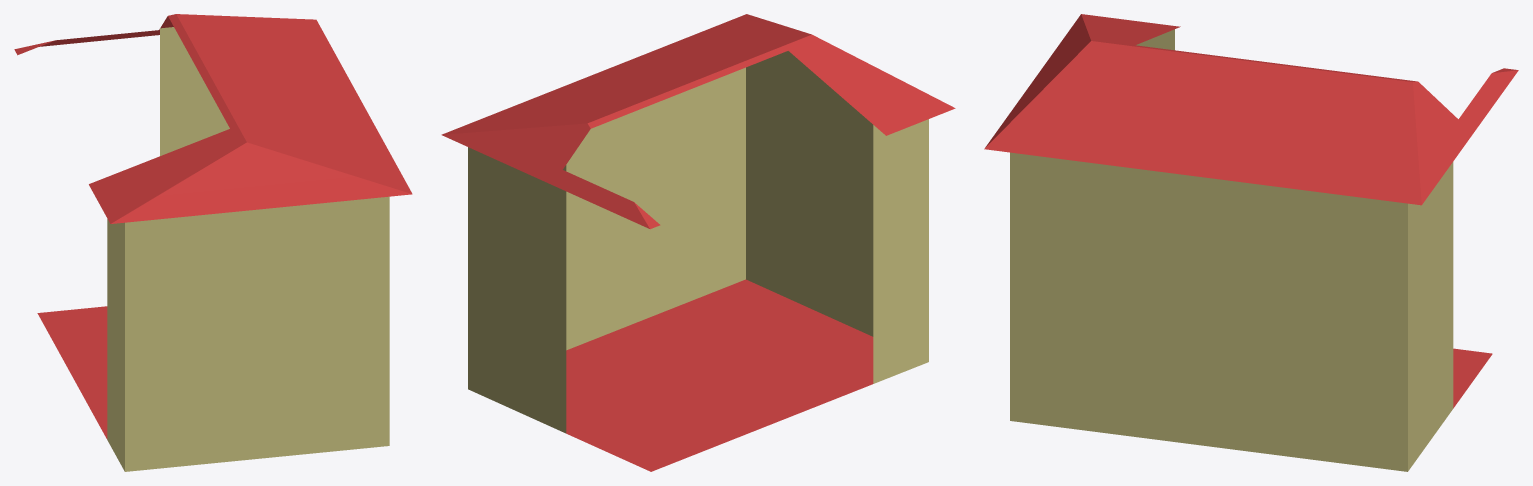
The picture shows the model from 3 angles, left to right: view 1: azimuth 30°, elevation 25°; view 2: azimuth 150°, elevation 25°; view 3: azimuth 270°, elevation 25°; orthographic projection. The views are drawn at different scales.
Parts seen in each view (by area): view 1: group_5, group_3, group_6; view 2: group_5, group_6, group_3, group_4; view 3: group_5, group_3, group_6.
Boxes of the visible parts, box(x1,y1,x2,y2) form: group_5: box(107, 27, 389, 471); group_3: box(14, 14, 412, 223); group_6: box(37, 306, 107, 439); group_5: box(468, 51, 928, 433); group_6: box(566, 279, 873, 471); group_3: box(441, 14, 955, 229); group_4: box(499, 103, 950, 228); group_5: box(1010, 29, 1453, 471); group_3: box(984, 14, 1518, 205); group_6: box(1453, 348, 1492, 408).
Bounding box in the file's own units: 10.89 × 12.86 × 8.62.
